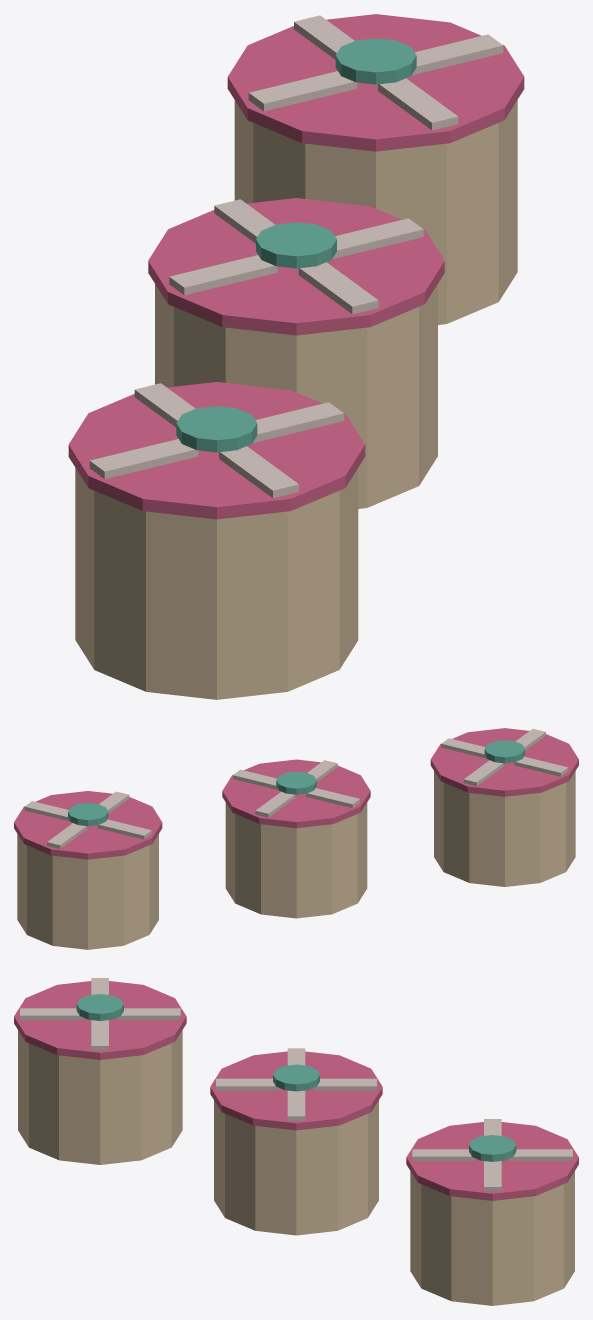
File: Candyland_PeppermintBumpers_Showcase.glb
3 views of the same model, one above another, from view 1: azimuth 30°, elevation 25°; view 2: azimuth 150°, elevation 25°; view 3: azimuth 270°, elevation 25° (orthographic). The views are drawn at different scales.
Parts seen in each view (by area): view 1: Candyland_PeppermintBumpers_Showcase; view 2: Candyland_PeppermintBumpers_Showcase; view 3: Candyland_PeppermintBumpers_Showcase.
Part boxes in pixels (x1=…): Candyland_PeppermintBumpers_Showcase: x1=68, y1=14, x2=524, y2=699; Candyland_PeppermintBumpers_Showcase: x1=14, y1=728, x2=578, y2=949; Candyland_PeppermintBumpers_Showcase: x1=14, y1=978, x2=578, y2=1305.
Bounding box in the file's own units: 2.58 × 0.71 × 2.88.
